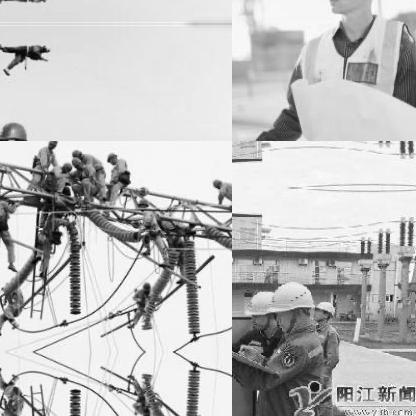Helmet: (270, 276, 314, 330), (313, 0, 393, 25), (245, 287, 275, 333), (310, 298, 336, 324), (0, 118, 29, 140), (136, 194, 150, 210), (71, 155, 85, 171), (211, 174, 225, 188), (105, 151, 119, 165), (140, 278, 150, 296), (56, 160, 70, 172), (70, 145, 84, 157), (139, 402, 151, 414), (47, 141, 57, 152)
